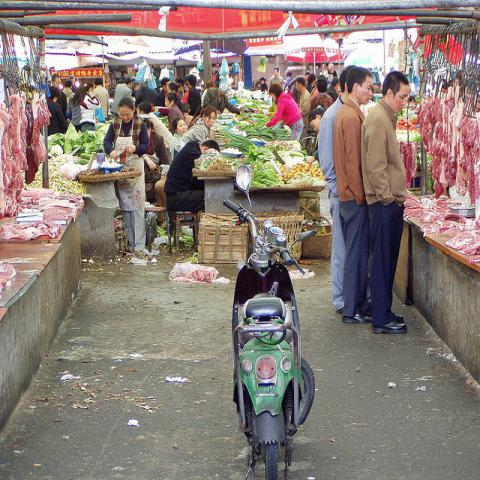motorcycle: (225, 197, 319, 478)
